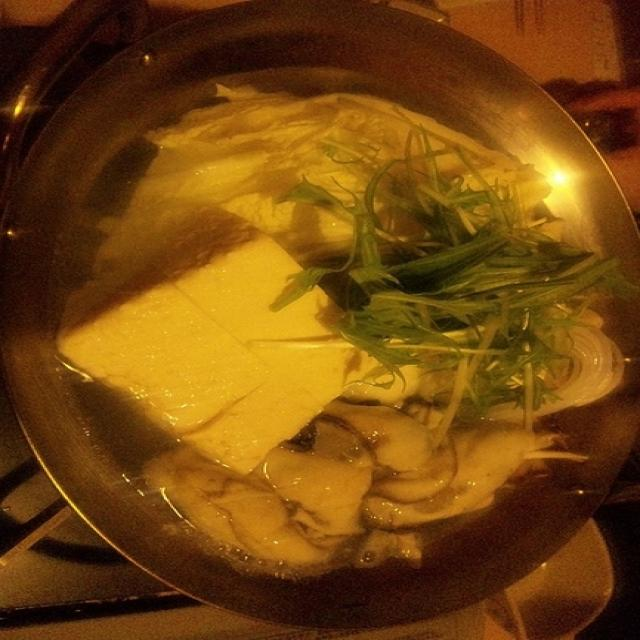豆腐料理: (21, 40, 625, 612)
